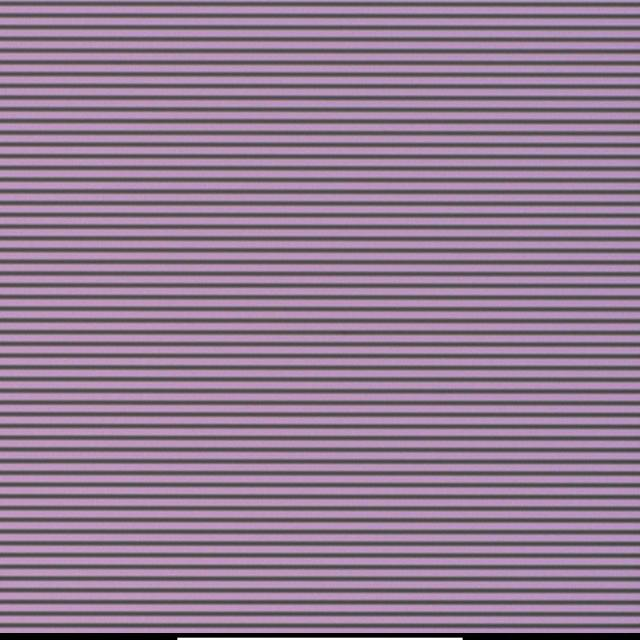03_intrusion: (341, 317, 347, 327)
